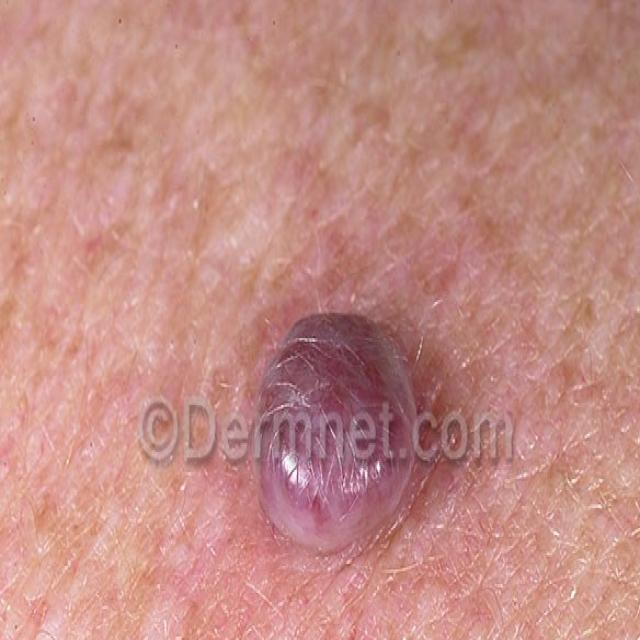Vascular Tumors: (242, 287, 430, 565)
